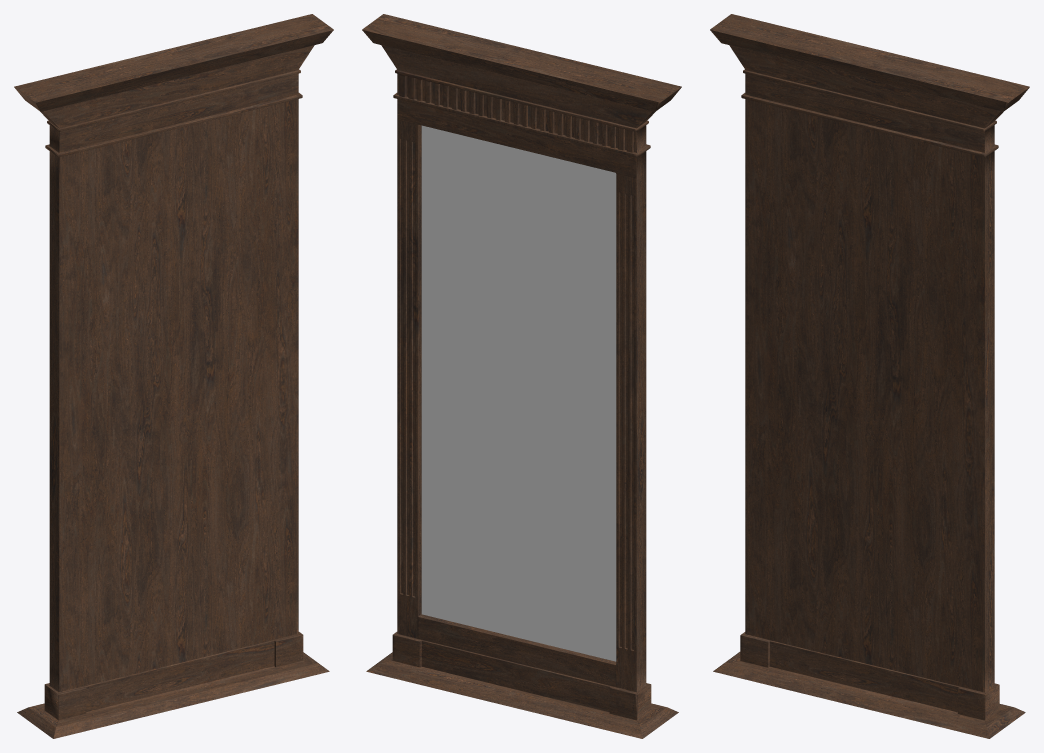
File: mirror.fbx
The picture shows the model from 3 angles, left to right: view 1: azimuth 30°, elevation 25°; view 2: azimuth 150°, elevation 25°; view 3: azimuth 330°, elevation 25°; orthographic projection.
Visible parts, largest first — view 1: Frame; view 2: Mirror, Frame; view 3: Frame.
Boxes of the visible parts, x1,y1,x2,y2 form: Frame: (14, 14, 333, 738); Mirror: (421, 125, 616, 661); Frame: (362, 14, 681, 738); Frame: (710, 14, 1029, 738).
Bounding box in the file's own units: 87.26 × 177 × 18.52.
Materials: 2 (2 with a texture image).
